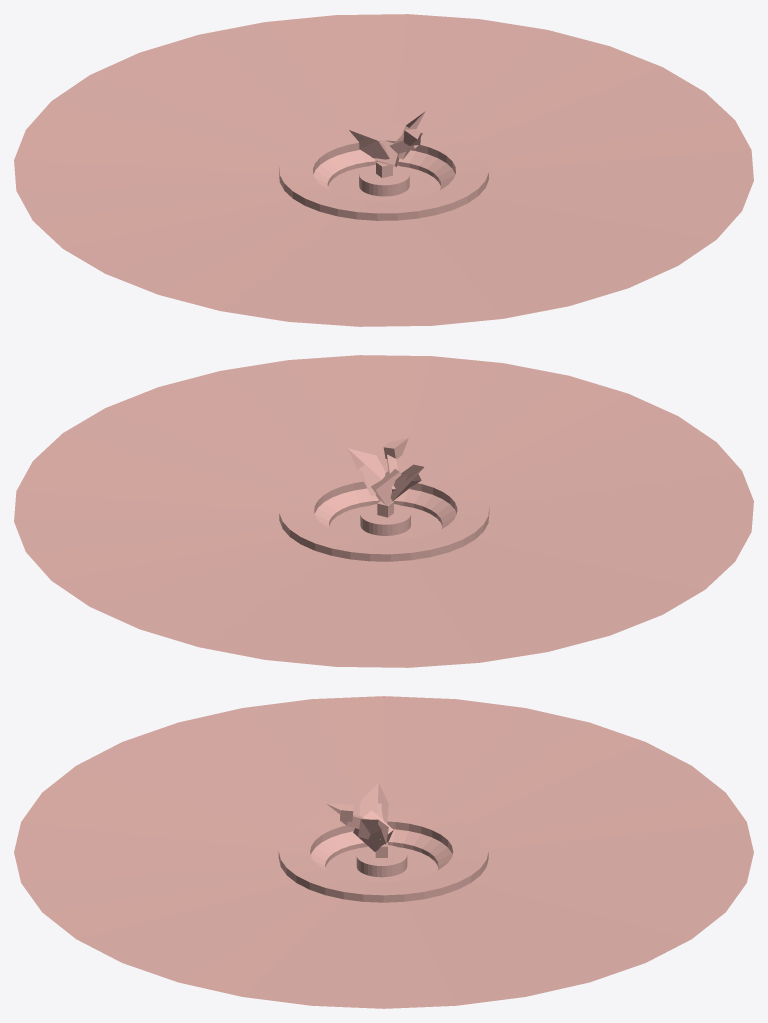
File: BTFontain.fbx
3 renders of one model, top to bottom at view 1: azimuth 30°, elevation 25°; view 2: azimuth 150°, elevation 25°; view 3: azimuth 270°, elevation 25°, orthographic.
Parts seen in each view (by area): view 1: Plane; view 2: Plane; view 3: Plane.
Boxes of the visible parts, x1,y1,x2,y2 form: Plane: (14,14,753,326); Plane: (14,355,753,667); Plane: (14,696,753,1008).
Bounding box in the file's own units: 11968 × 1362 × 11968.
